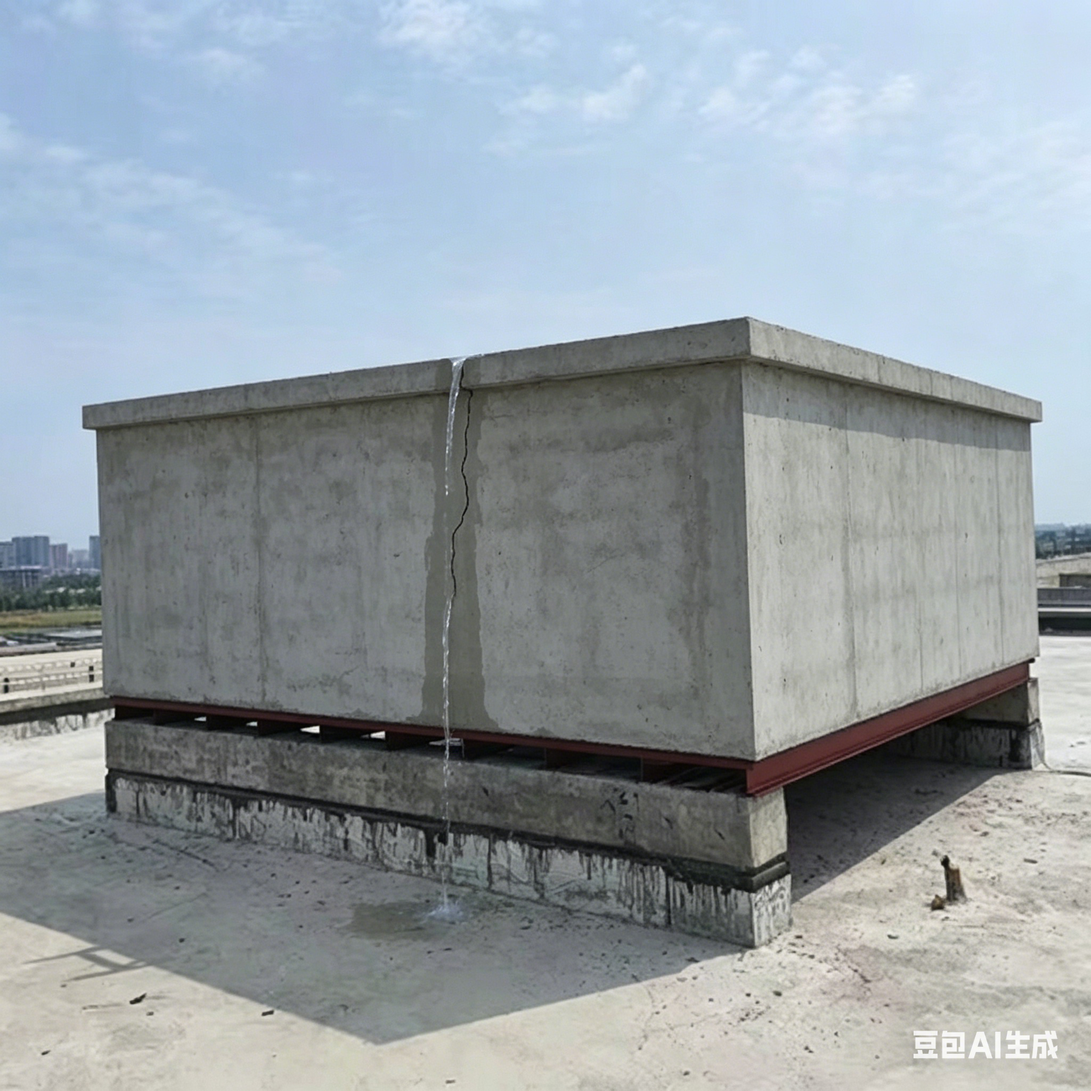Leakage: (419, 345, 479, 939)
